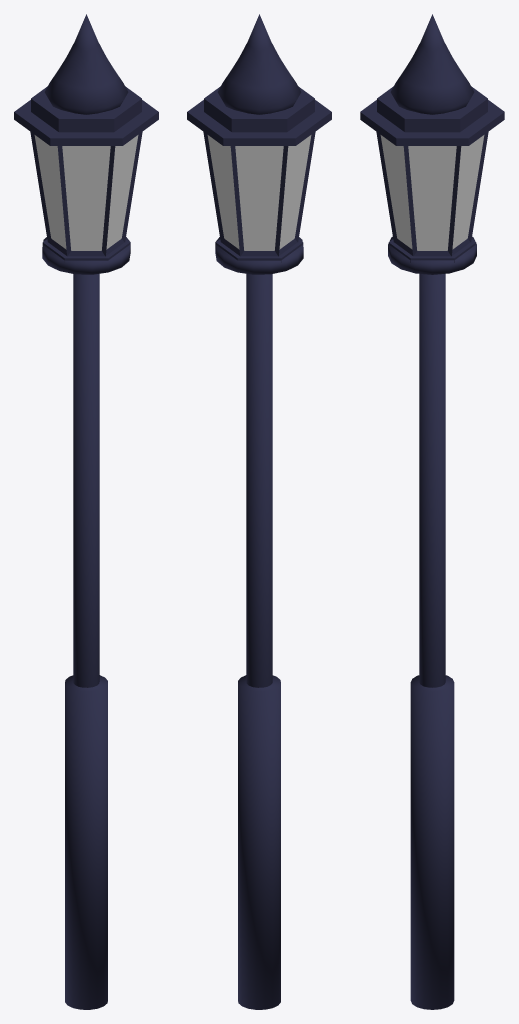
Rendered from gaitou.glb.
3 views of the same model, side by side, from view 1: azimuth 30°, elevation 25°; view 2: azimuth 150°, elevation 25°; view 3: azimuth 270°, elevation 25° (orthographic).
Parts seen in each view (by area): view 1: 円柱.007; view 2: 円柱.007; view 3: 円柱.007.
Part boxes in pixels (x1,y1,x2,y2): 円柱.007: (14, 14, 158, 1009); 円柱.007: (187, 14, 331, 1009); 円柱.007: (360, 14, 504, 1009).
Bounding box in the file's own units: 0.5188 × 4.51 × 0.5991.
